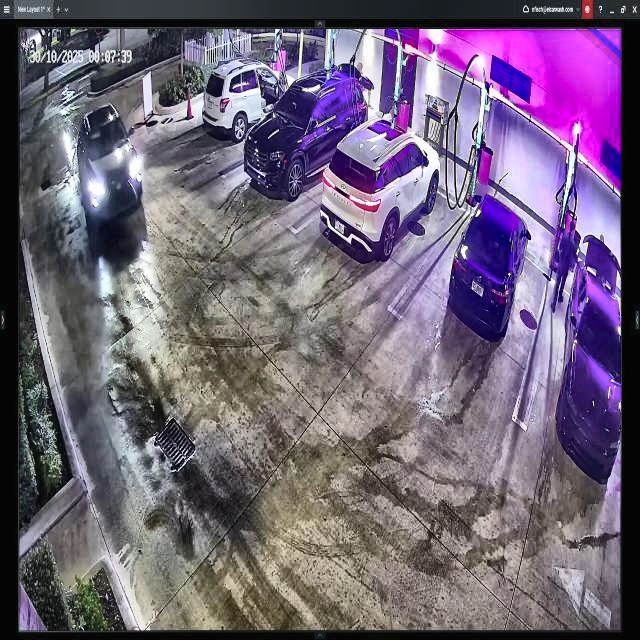Car: (320, 116, 440, 258), (244, 72, 364, 198), (451, 196, 530, 337), (77, 104, 142, 222)
